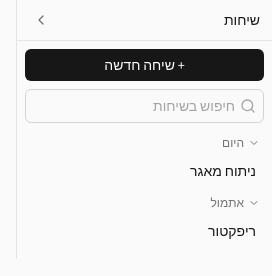
Test case: ThreadSidebar (P9-T12) › search filters the list by title, case-insensitively
Type "ריפקטור" into the search field at {"x": 144, "y": 106}, box top-left (25, 89), bottom-right (264, 123)
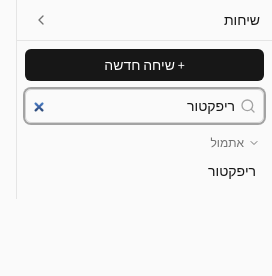
Expected: the text "ריפקטור" is shown, top-left (208, 162), bottom-right (256, 180)
Expected: the button "ניתוח מאגר" is gone
